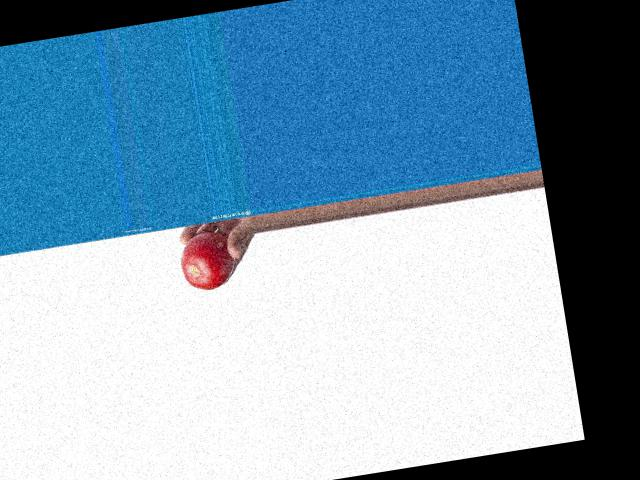tomato: (176, 228, 238, 292)
